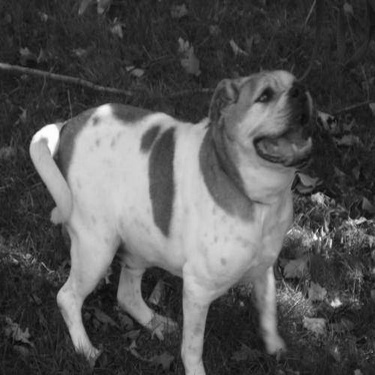dog: (23, 60, 321, 373)
